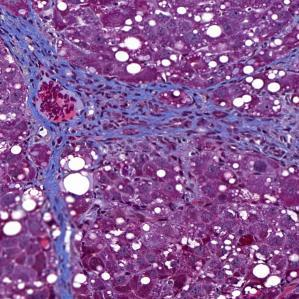fibrosis: (66, 78, 214, 149), (7, 17, 74, 113), (220, 90, 299, 165), (38, 164, 75, 256)
